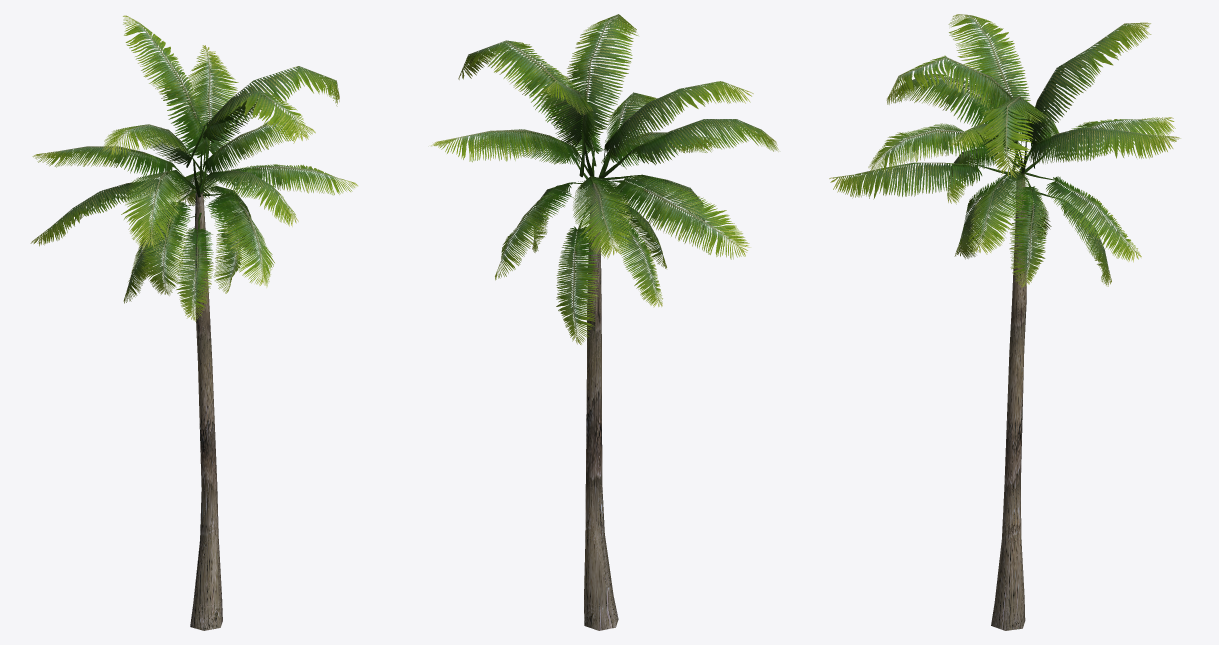
File: tree2.obj
3 renders of one model, left to right at view 1: azimuth 30°, elevation 25°; view 2: azimuth 150°, elevation 25°; view 3: azimuth 270°, elevation 25°, orthographic. The views are drawn at different scales.
Parts seen in each view (by area): view 1: palma_palma.L1; view 2: palma_palma.L1; view 3: palma_palma.L1.
Boxes of the visible parts, x1=… form: palma_palma.L1: x1=30, y1=15, x2=357, y2=630; palma_palma.L1: x1=431, y1=14, x2=778, y2=630; palma_palma.L1: x1=829, y1=14, x2=1180, y2=630.
Bounding box in the file's own units: 13.88 × 24.32 × 14.02.
Materials: 2 (2 with a texture image).
